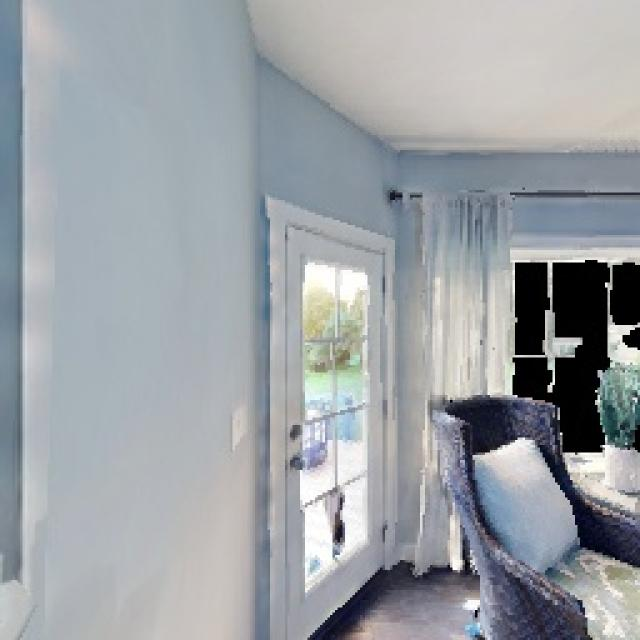chair: (268, 199, 406, 640), (404, 383, 640, 640)
